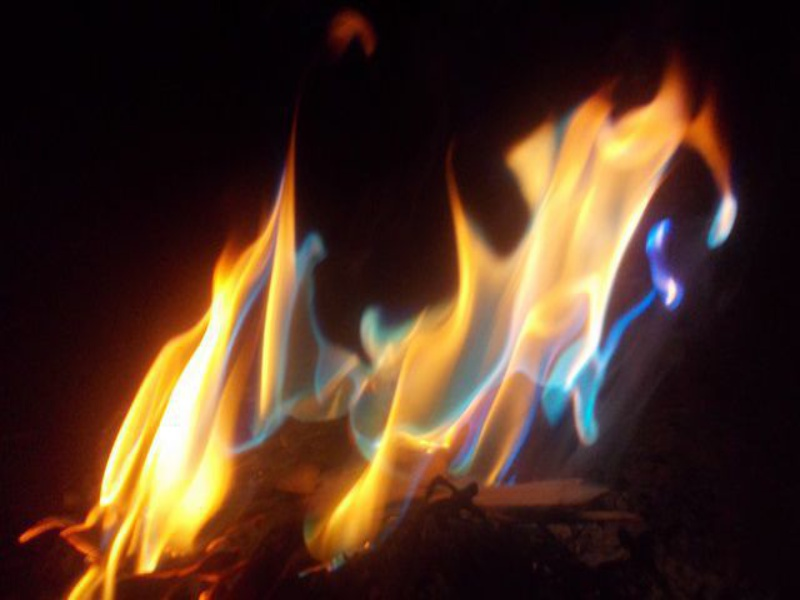fire: (31, 40, 746, 597)
